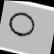no answer: (2, 8, 36, 45)
